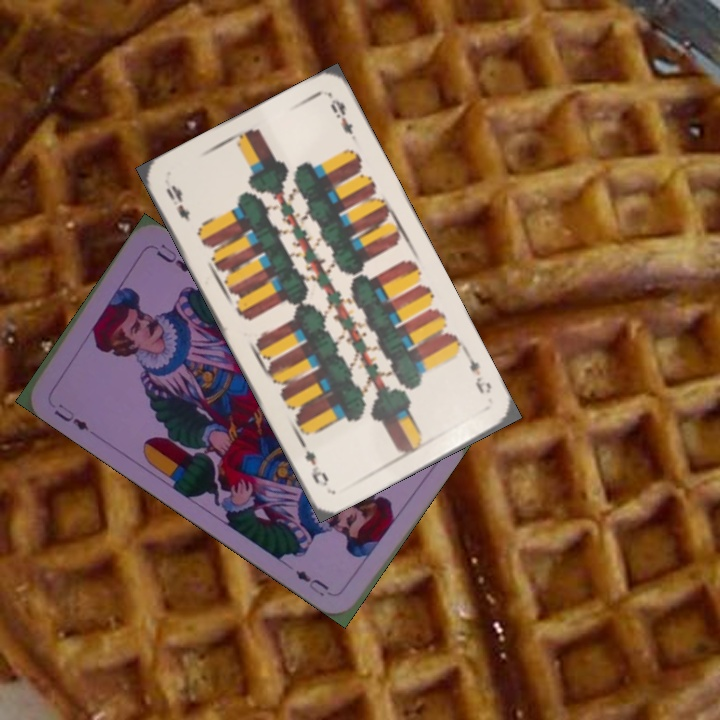E9: (462, 349, 495, 397), (161, 181, 193, 224)
EU: (50, 400, 92, 433)
